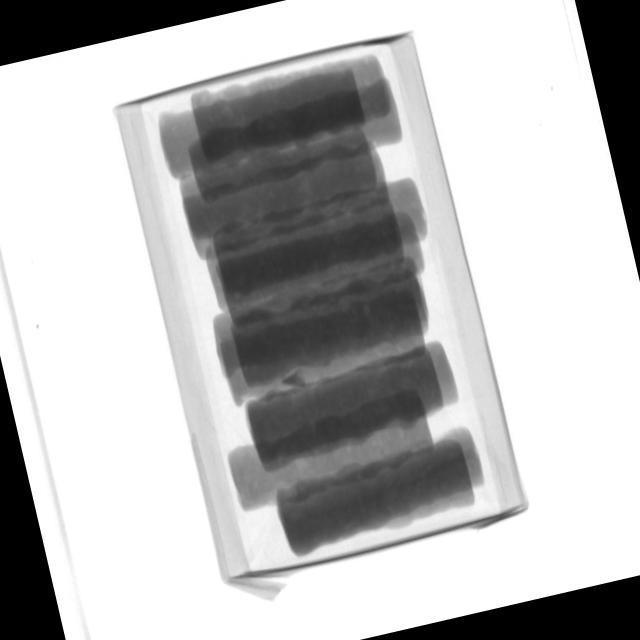ym: (280, 369, 309, 393)
